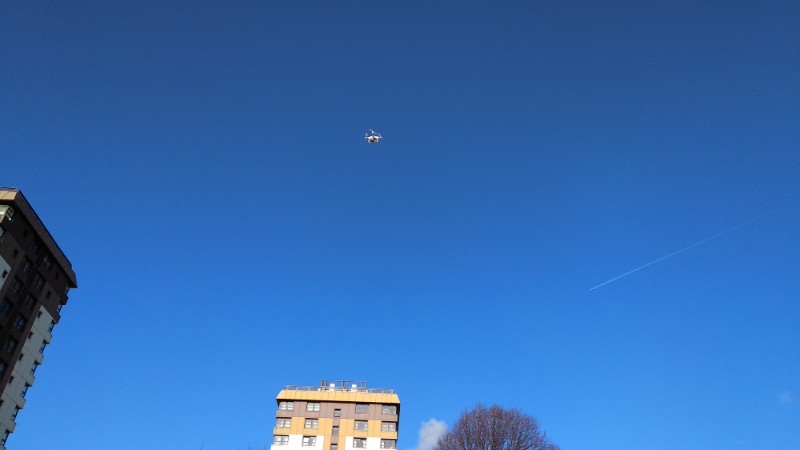drone: (363, 128, 384, 146)
